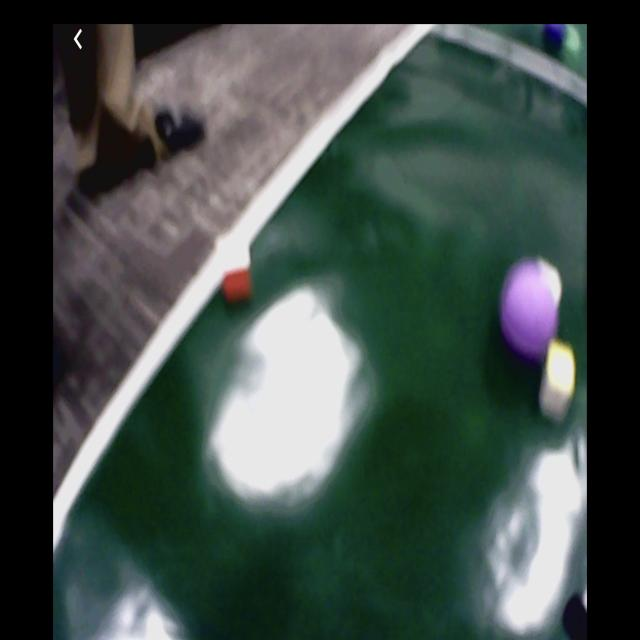ball: (501, 266, 560, 353), (543, 26, 567, 50)
